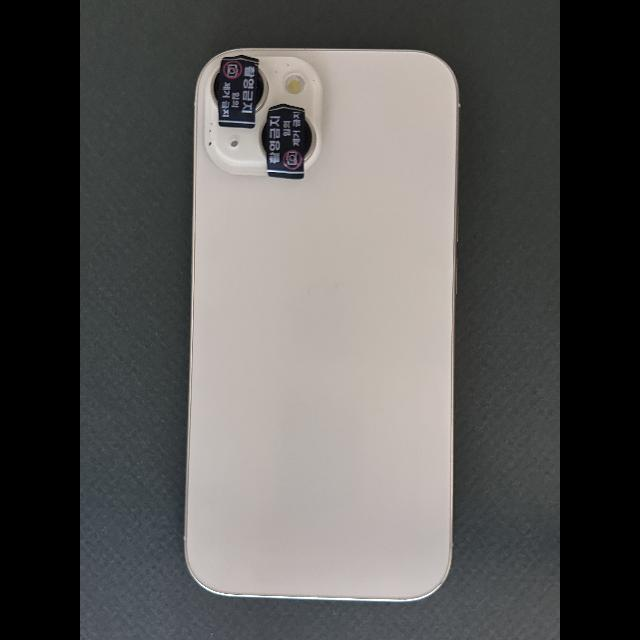lens: (254, 67, 269, 112), (305, 117, 316, 160)
phone: (184, 48, 461, 602)
sticker: (218, 55, 259, 130), (267, 104, 305, 180)
